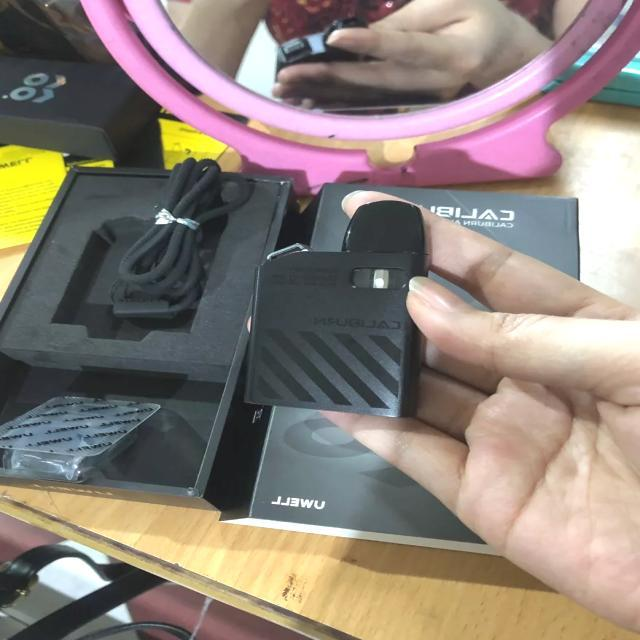Hazard: (242, 196, 432, 418)
